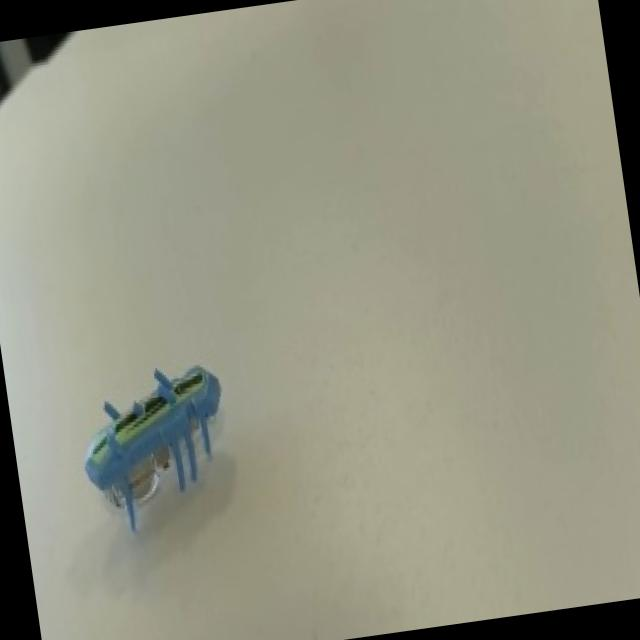3_NanoBug_Celeste: (30, 302, 299, 573)
